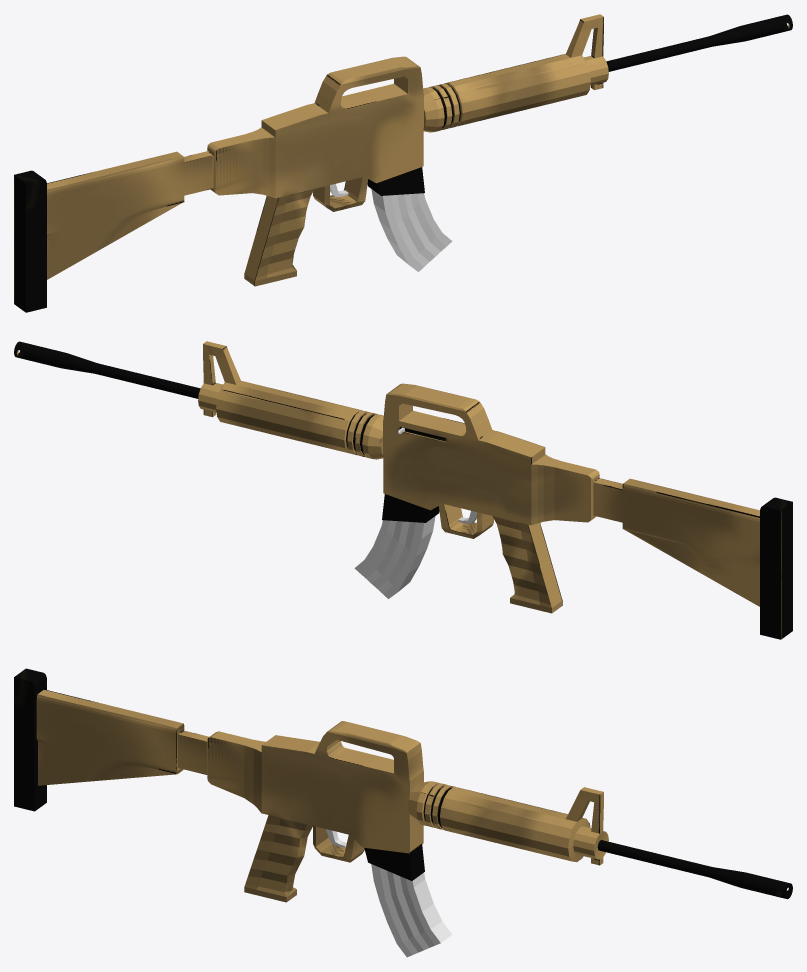
3 renders of one model, top to bottom at view 1: azimuth 30°, elevation 25°; view 2: azimuth 150°, elevation 25°; view 3: azimuth 330°, elevation 25°, orthographic.
Parts seen in each view (by area): view 1: Arma, Cube.002; view 2: Arma, Cube.002; view 3: Arma, Cube.002.
Part boxes in pixels (x1,y1,x2,y2): Arma: (14, 14, 792, 312); Cube.002: (371, 189, 452, 271); Arma: (14, 341, 792, 639); Cube.002: (354, 516, 435, 598); Arma: (14, 668, 792, 902); Cube.002: (371, 864, 452, 957).
Size of the model in its own units: 1095 by 285 by 56.31.
